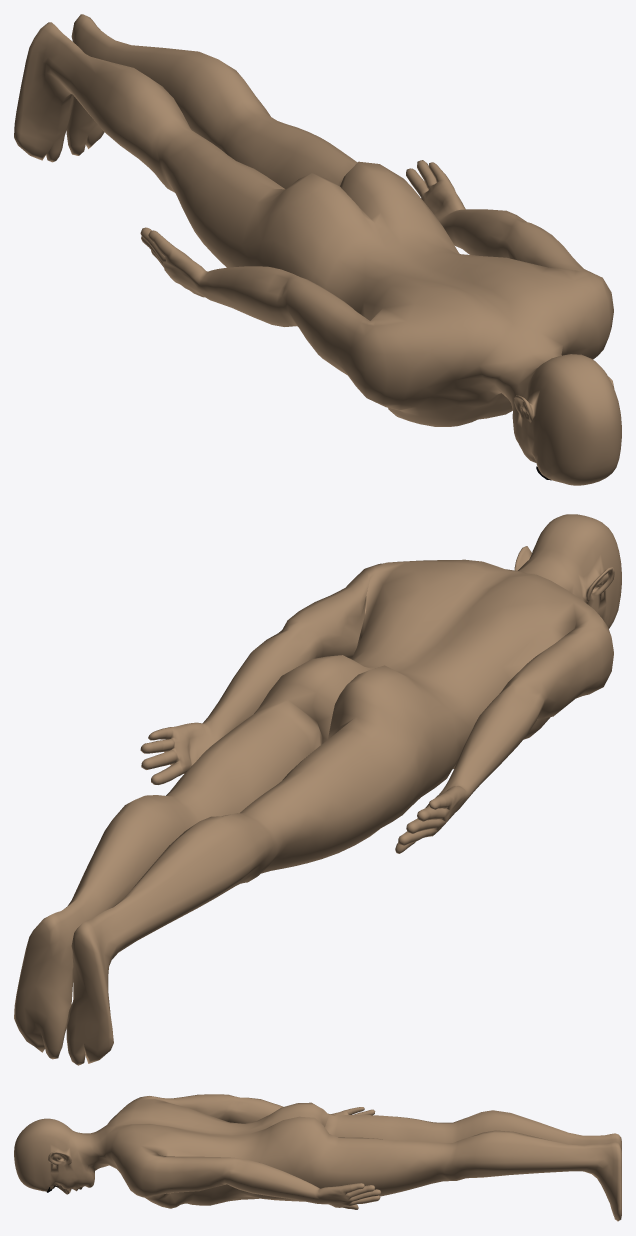
Rendered from male.obj.
3 renders of one model, top to bottom at view 1: azimuth 30°, elevation 25°; view 2: azimuth 150°, elevation 25°; view 3: azimuth 270°, elevation 25°, orthographic. The views are drawn at different scales.
Parts seen in each view (by area): view 1: male; view 2: male; view 3: male.
Part boxes in pixels (box(x1,y1,x2,y2)): male: box(14, 14, 621, 485); male: box(14, 514, 621, 1065); male: box(14, 1094, 621, 1221).
Bounding box in the file's own units: 0.3776 × 0.2386 × 1.23.
